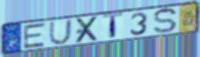3: (129, 11, 149, 36)
E: (22, 21, 48, 50)
S: (153, 7, 179, 34)
T: (102, 11, 125, 41)
U: (48, 18, 74, 46)
X: (74, 15, 101, 45)
